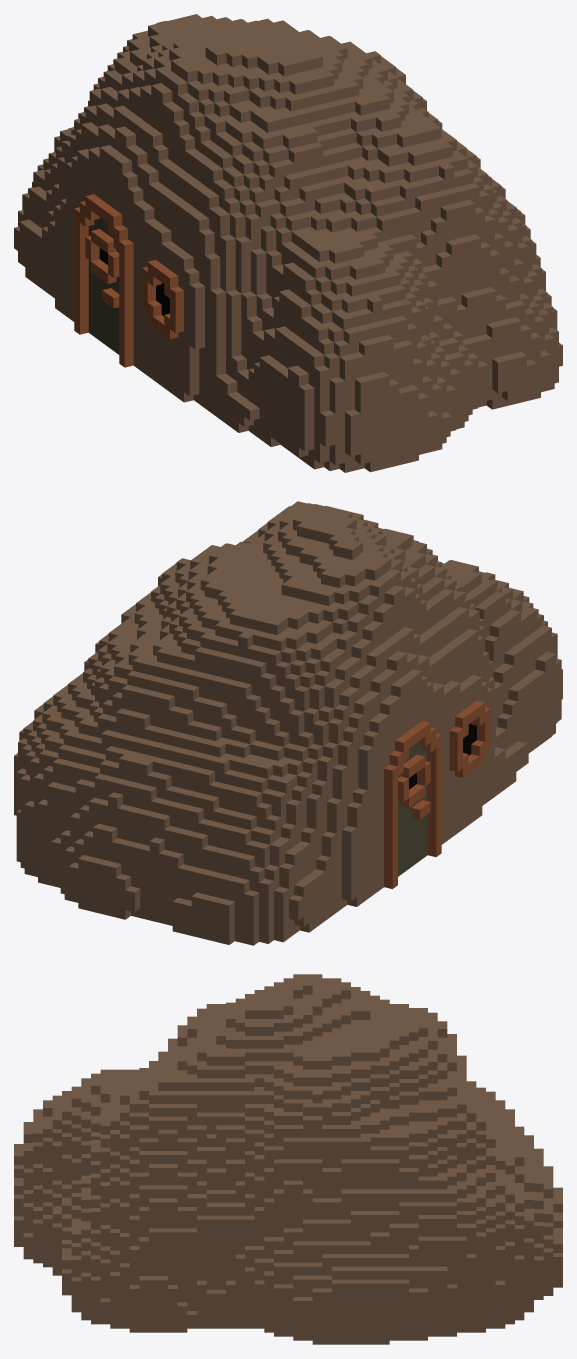
File: StoneHouse1.fbx
3 renders of one model, top to bottom at view 1: azimuth 30°, elevation 25°; view 2: azimuth 150°, elevation 25°; view 3: azimuth 270°, elevation 25°, orthographic. The views are drawn at different scales.
Parts seen in each view (by area): view 1: Cube.073; view 2: Cube.073; view 3: Cube.073.
Part boxes in pixels (box(x1,y1,x2,y2)): Cube.073: box(14, 14, 562, 472); Cube.073: box(14, 501, 562, 945); Cube.073: box(14, 974, 562, 1344).
Size of the model in its own units: 366 by 288 by 566.
